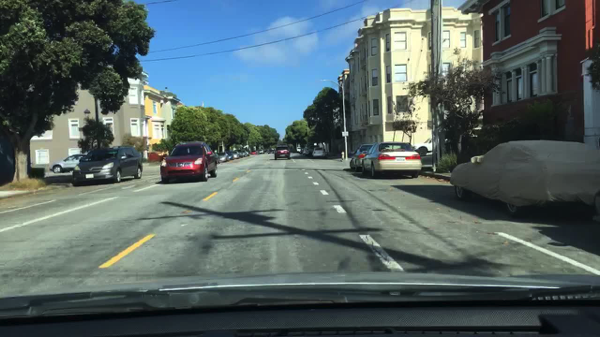car: (449, 140, 599, 217), (73, 147, 142, 186), (160, 140, 218, 183), (361, 140, 422, 179), (349, 143, 384, 173), (50, 154, 93, 174), (418, 135, 453, 159), (273, 146, 291, 160), (311, 147, 327, 159), (217, 151, 229, 162), (305, 147, 314, 157), (231, 151, 239, 160), (227, 151, 235, 160), (235, 149, 242, 159), (300, 147, 306, 155), (242, 150, 246, 158), (296, 147, 302, 152), (246, 150, 250, 156)
traffic sign: (342, 131, 348, 137)
